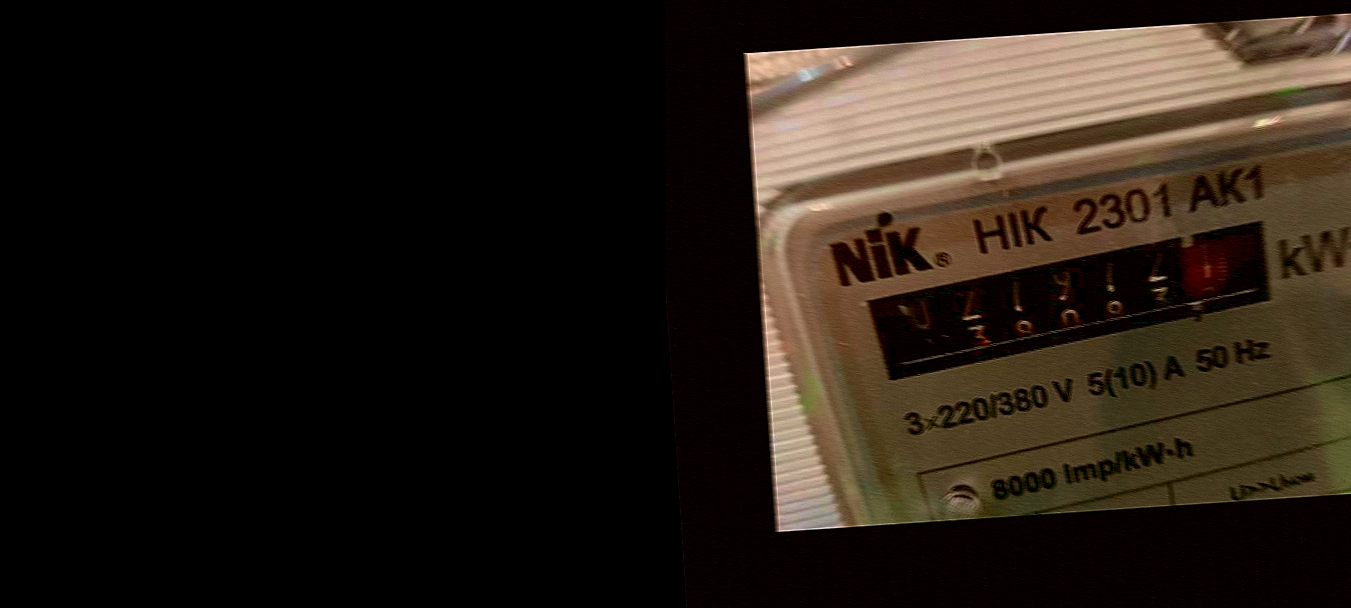0: (906, 294, 936, 332)
1: (1196, 238, 1220, 283)
2: (954, 282, 985, 323), (1142, 245, 1172, 284)
7: (1095, 254, 1124, 296), (1004, 276, 1029, 314)
9: (1050, 266, 1078, 302)
screen: (848, 209, 1309, 392)
